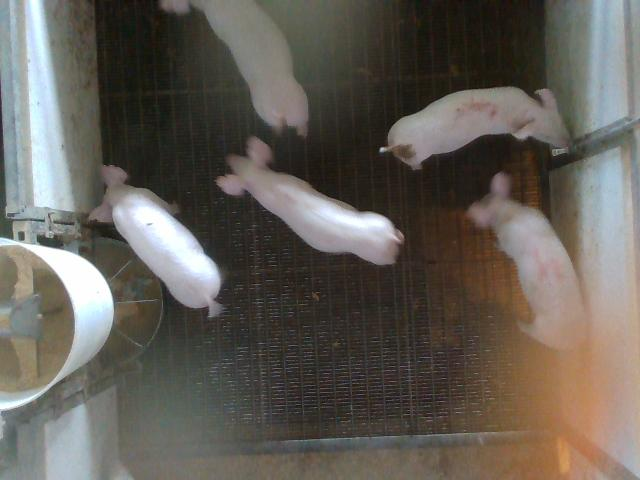pig-4: (468, 172, 585, 348)
pig-5: (380, 86, 570, 169)
